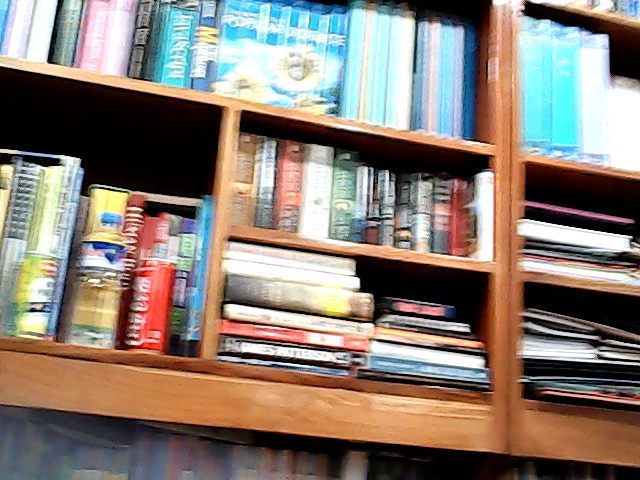Cola: (125, 254, 181, 360)
Pine Juice: (15, 251, 54, 335)
Summit Water: (77, 212, 125, 344)
